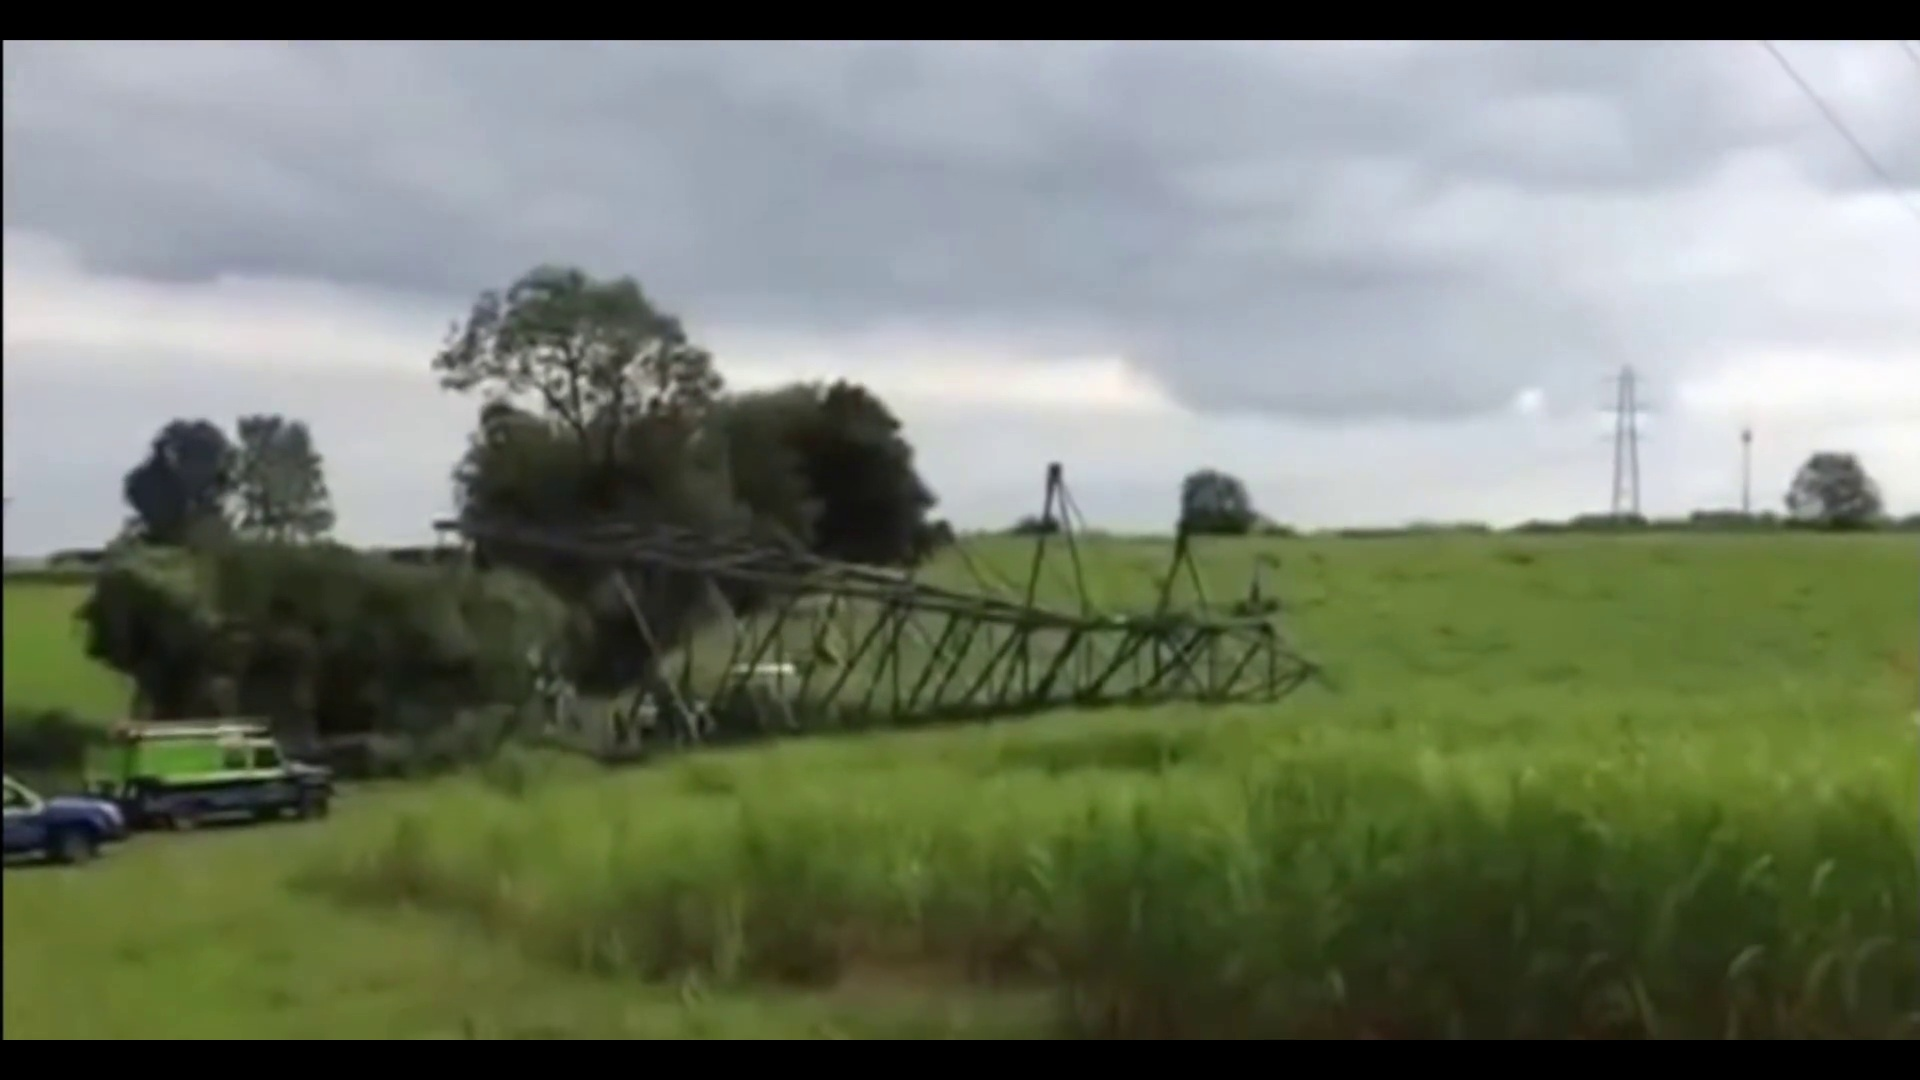tower_down: (496, 509, 1338, 762)
